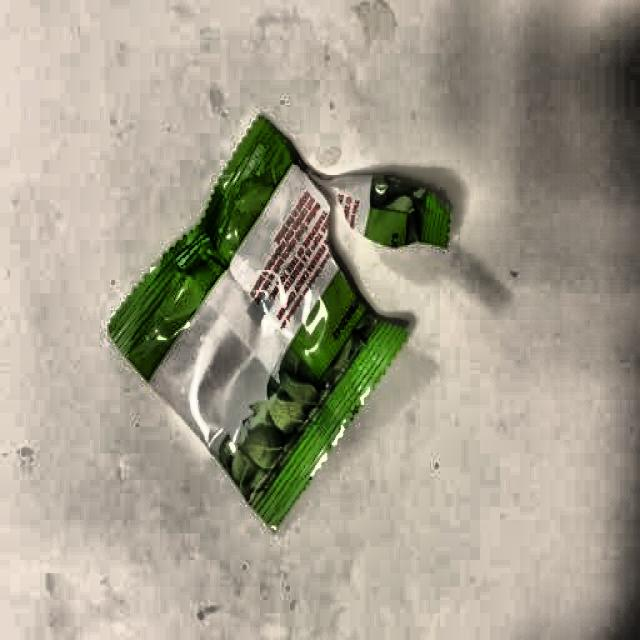trash: (101, 106, 443, 503)
